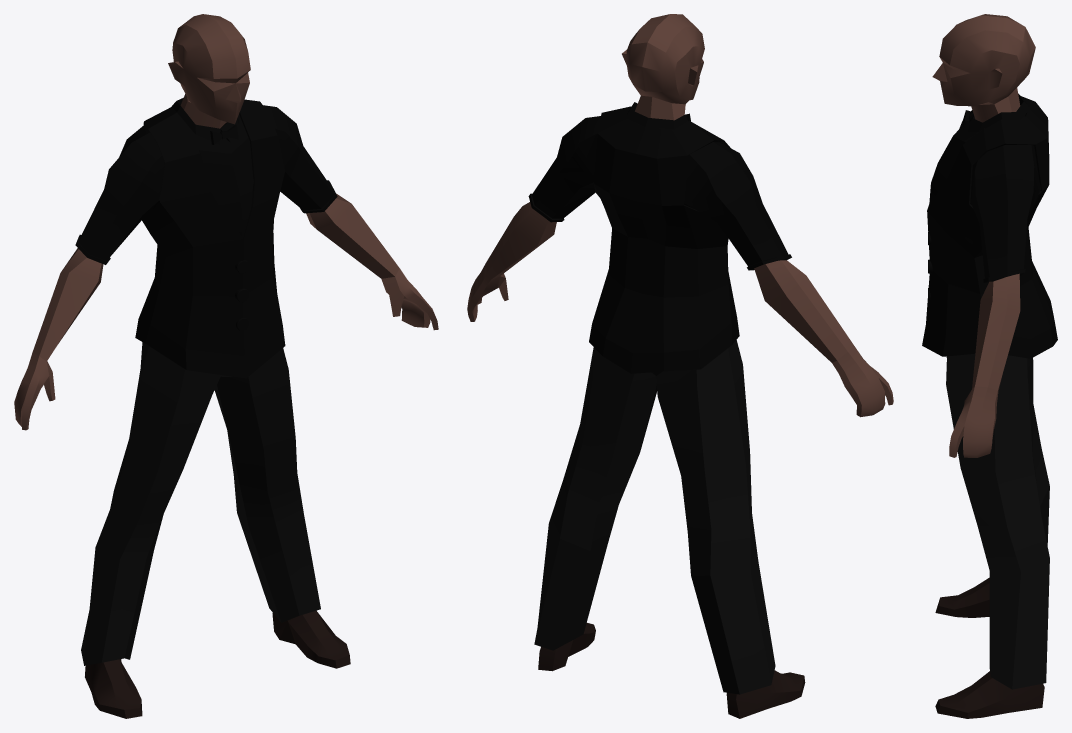
The model's file is Crupier.fbx.
3 views of the same model, side by side, from view 1: azimuth 30°, elevation 25°; view 2: azimuth 150°, elevation 25°; view 3: azimuth 270°, elevation 25° (orthographic). The views are drawn at different scales.
Parts seen in each view (by area): view 1: Crupier; view 2: Crupier; view 3: Crupier.
Boxes of the visible parts, box(x1,y1,x2,y2) form: Crupier: box(14, 14, 438, 718); Crupier: box(467, 14, 893, 718); Crupier: box(922, 14, 1057, 718).
Size of the model in its own units: 116 by 175 by 33.45.
